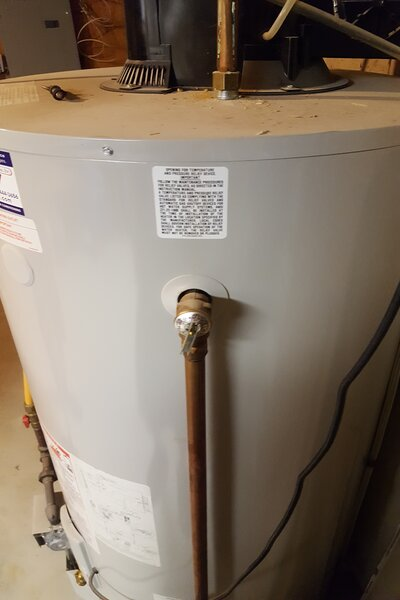valve: (174, 288, 215, 369)
